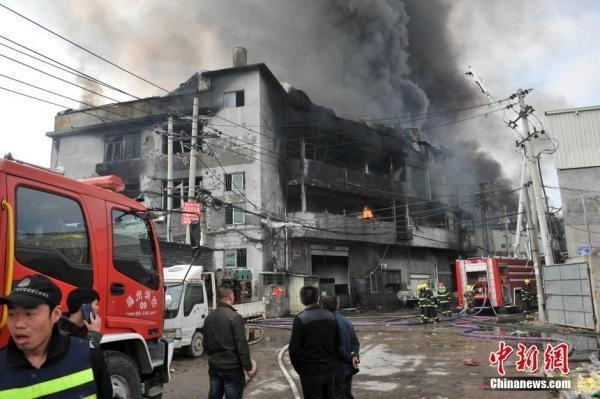fire: (359, 202, 375, 219)
